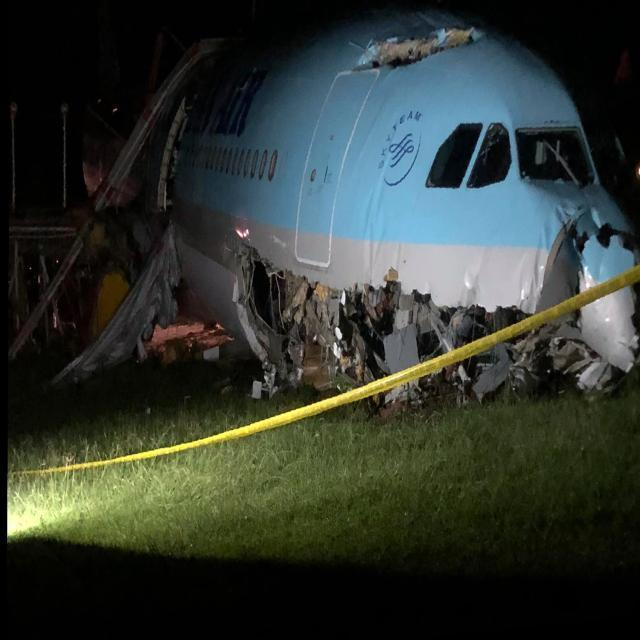crack: (352, 28, 485, 74)
